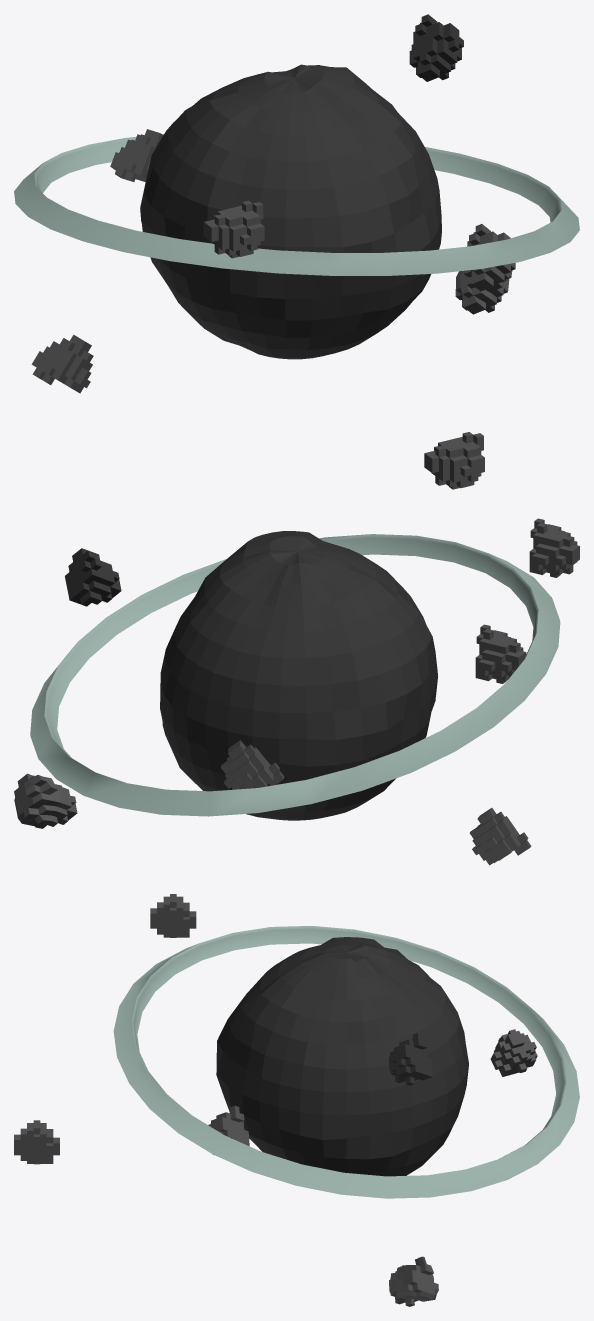
File: venus.fbx
3 views of the same model, one above another, from view 1: azimuth 30°, elevation 25°; view 2: azimuth 150°, elevation 25°; view 3: azimuth 270°, elevation 25° (orthographic). The views are drawn at different scales.
Parts seen in each view (by area): view 1: Sphere, Circle.001, Sphere.003, Sphere.001, Sphere.007, Sphere.006, Sphere.005, Sphere.002, Sphere.004; view 2: Sphere, Circle.001, Sphere.004, Sphere.003, Sphere.001, Sphere.007, Sphere.006, Sphere.005; view 3: Sphere, Circle.001, Sphere.004, Sphere.003, Sphere.001, Sphere.007, Sphere.005, Sphere.002.
Part boxes in pixels (x1,y1,x2,y2): Sphere: [140, 64, 441, 359]; Circle.001: [14, 134, 579, 275]; Sphere.003: [409, 14, 463, 81]; Sphere.001: [203, 200, 264, 258]; Sphere.007: [424, 432, 484, 489]; Sphere.006: [31, 334, 93, 393]; Sphere.005: [110, 129, 163, 181]; Sphere.002: [463, 224, 515, 291]; Sphere.004: [455, 270, 512, 314]; Sphere: [160, 531, 437, 820]; Circle.001: [30, 534, 560, 816]; Sphere.004: [14, 773, 77, 828]; Sphere.003: [65, 548, 121, 606]; Sphere.001: [529, 518, 579, 577]; Sphere.007: [475, 624, 526, 683]; Sphere.006: [469, 808, 531, 865]; Sphere.005: [221, 740, 284, 789]; Sphere: [216, 937, 468, 1176]; Circle.001: [113, 926, 579, 1198]; Sphere.004: [389, 1256, 438, 1306]; Sphere.003: [388, 1033, 432, 1085]; Sphere.001: [150, 894, 196, 937]; Sphere.007: [14, 1120, 59, 1164]; Sphere.005: [490, 1029, 537, 1076]; Sphere.002: [208, 1105, 249, 1154].
Size of the model in its own units: 2367 by 1418 by 2752.
